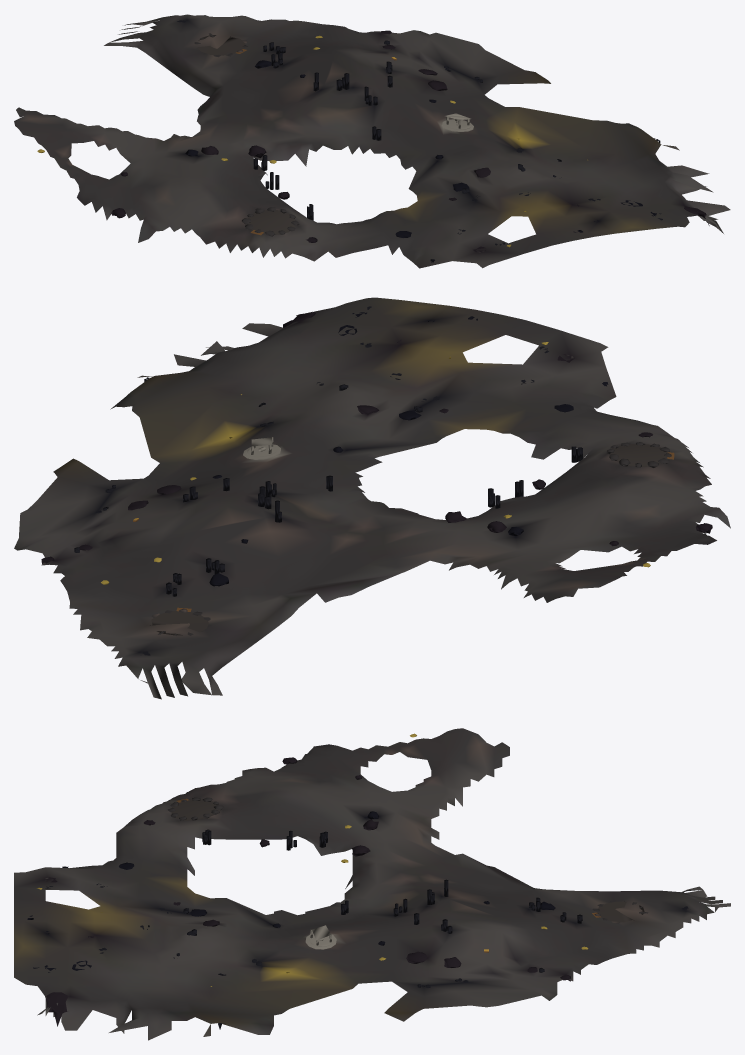
Rendered from ash_isl_hot_spring_lod1.glb.
The picture shows the model from 3 angles, top to bottom: view 1: azimuth 30°, elevation 25°; view 2: azimuth 150°, elevation 25°; view 3: azimuth 270°, elevation 25°; orthographic projection. The views are drawn at different scales.
Visible parts, largest first — view 1: ash_isl_hot_spring_lod1; view 2: ash_isl_hot_spring_lod1; view 3: ash_isl_hot_spring_lod1.
Boxes of the visible parts, x1,y1,x2,y2 form: ash_isl_hot_spring_lod1: (14, 14, 730, 268); ash_isl_hot_spring_lod1: (14, 297, 730, 699); ash_isl_hot_spring_lod1: (14, 728, 730, 1040).
Size of the model in its own units: 155 by 18.75 by 182.
